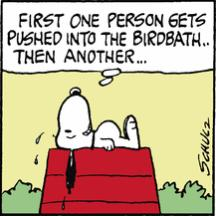snoopy: (55, 87, 141, 195)
